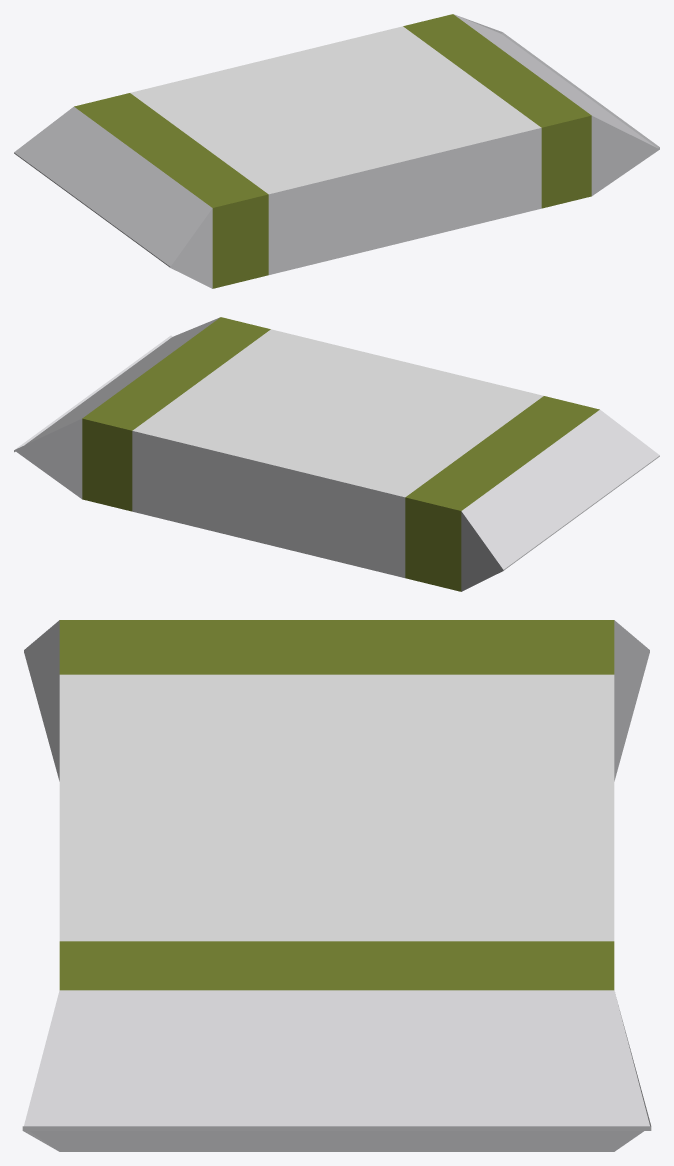
Rendered from gubre.fbx.
3 renders of one model, top to bottom at view 1: azimuth 30°, elevation 25°; view 2: azimuth 150°, elevation 25°; view 3: azimuth 270°, elevation 25°, orthographic. The views are drawn at different scales.
Parts seen in each view (by area): view 1: Cube; view 2: Cube; view 3: Cube.
Boxes of the visible parts, left/top/right/bottom form: Cube: left=14, top=14, right=659, bottom=288; Cube: left=14, top=317, right=659, bottom=591; Cube: left=22, top=620, right=651, bottom=1151.
Bounding box in the file's own units: 109 × 17.14 × 60.41.
